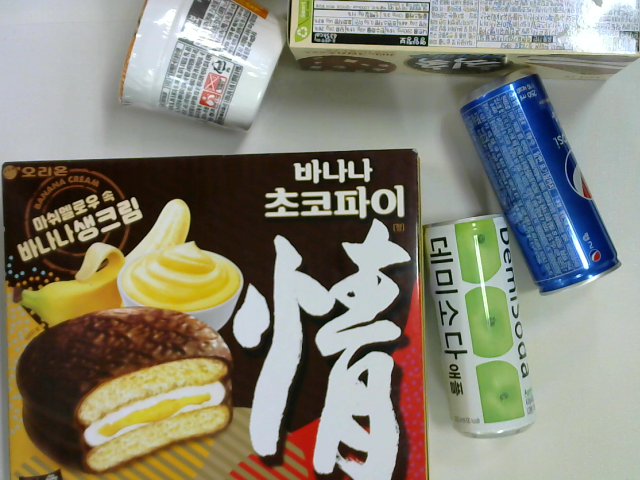Chicchok_Tiramisu: (287, 1, 640, 82)
Choco_Pie_Banana: (2, 146, 429, 480)
Demisoda_Apple_Can_250ml: (423, 211, 539, 438)
Pepsi_Cola_Can_250ml: (459, 69, 624, 297)
Udongmini: (118, 1, 293, 133)
